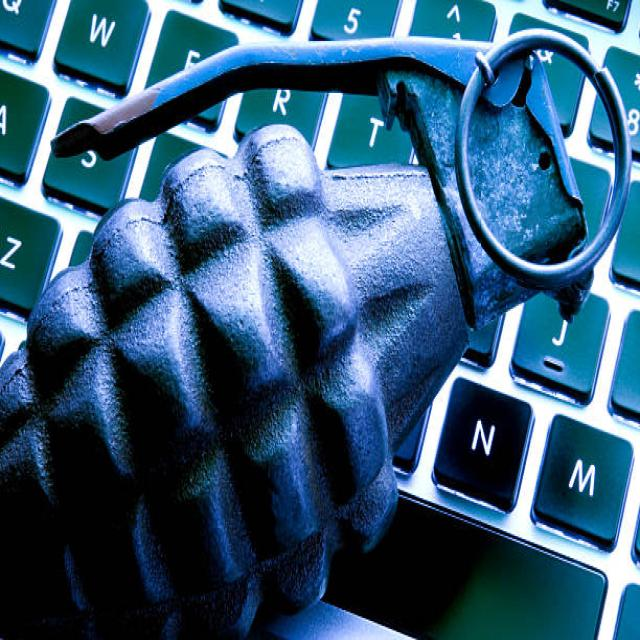grenade: (1, 18, 640, 640)
